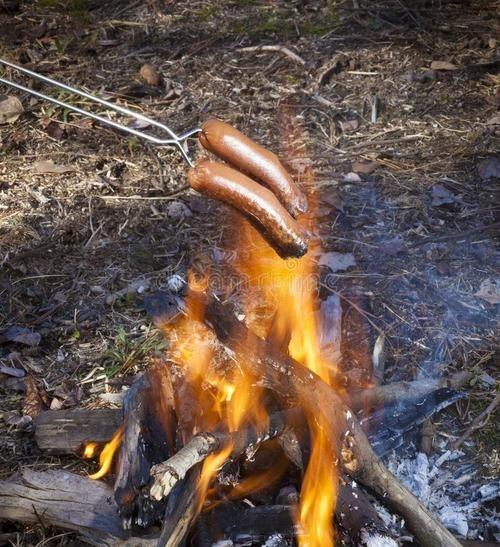fire: (139, 130, 391, 547), (83, 428, 124, 478)
